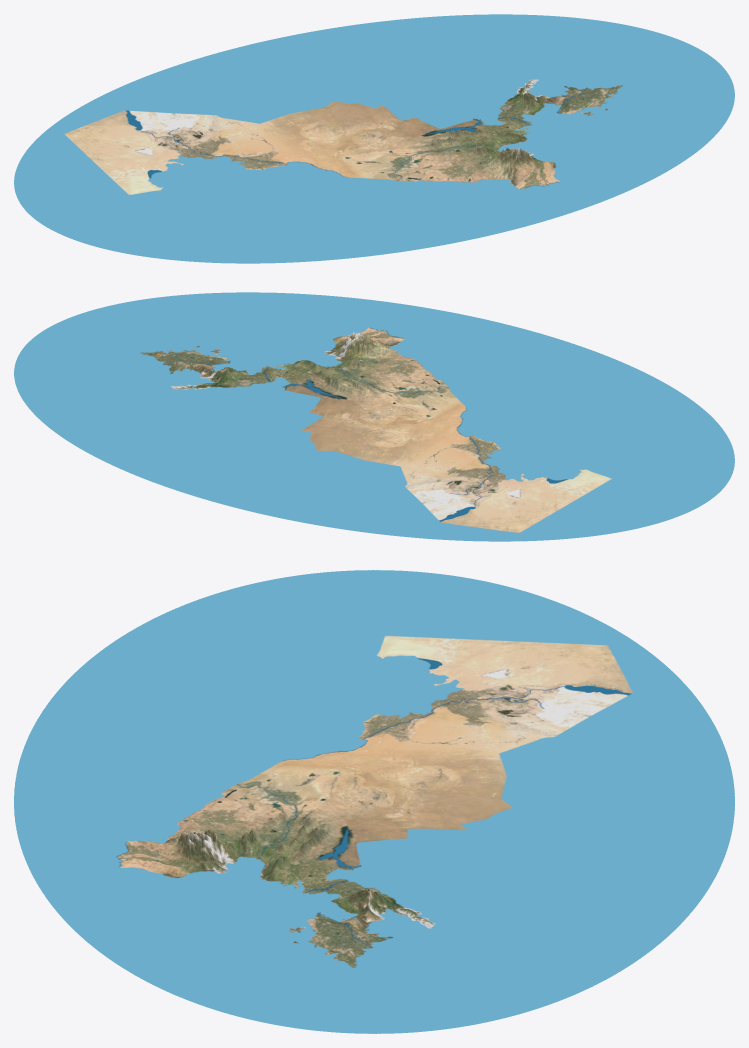
Rendered from UZB-previa-terrain.glb.
3 views of the same model, one above another, from view 1: azimuth 30°, elevation 25°; view 2: azimuth 150°, elevation 25°; view 3: azimuth 270°, elevation 25° (orthographic). The views are drawn at different scales.
Visible parts, largest first — view 1: Uzbequistão; view 2: Uzbequistão; view 3: Uzbequistão.
Part boxes in pixels (<box>): Uzbequistão: <box>14,14,734,263</box>; Uzbequistão: <box>14,292,734,541</box>; Uzbequistão: <box>14,570,734,1033</box>.
Size of the model in its own units: 2.46 by 0.0626 by 1.62.
1 material, 1 textured.
